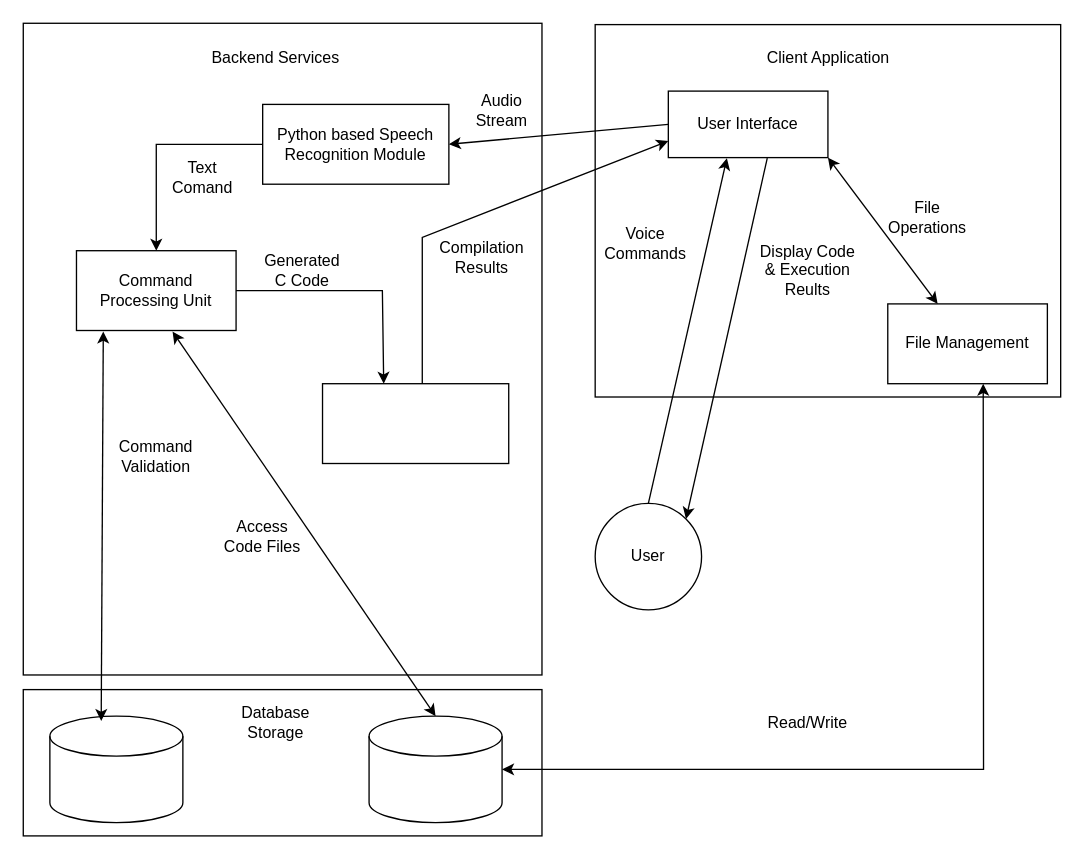
The diagram is 1084 pixels wide and 859 high, and some of its shapes have lost their labels. Each missing label, with the centre of its shape:
"Code Execution engine (GCC)" goes at (415,423).
"Code Files" goes at (435,769).
"Command Dataset(Json Rules)" goes at (116,769).
